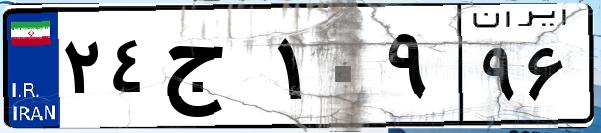0: (330, 28, 385, 110)
1: (270, 28, 330, 110)
2: (57, 26, 110, 100)
4: (110, 28, 158, 98)
6: (525, 38, 570, 115)
9: (385, 28, 445, 110), (475, 38, 525, 113)
ج: (158, 20, 270, 120)
